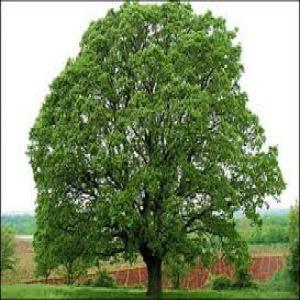Tree: (26, 3, 290, 295)
